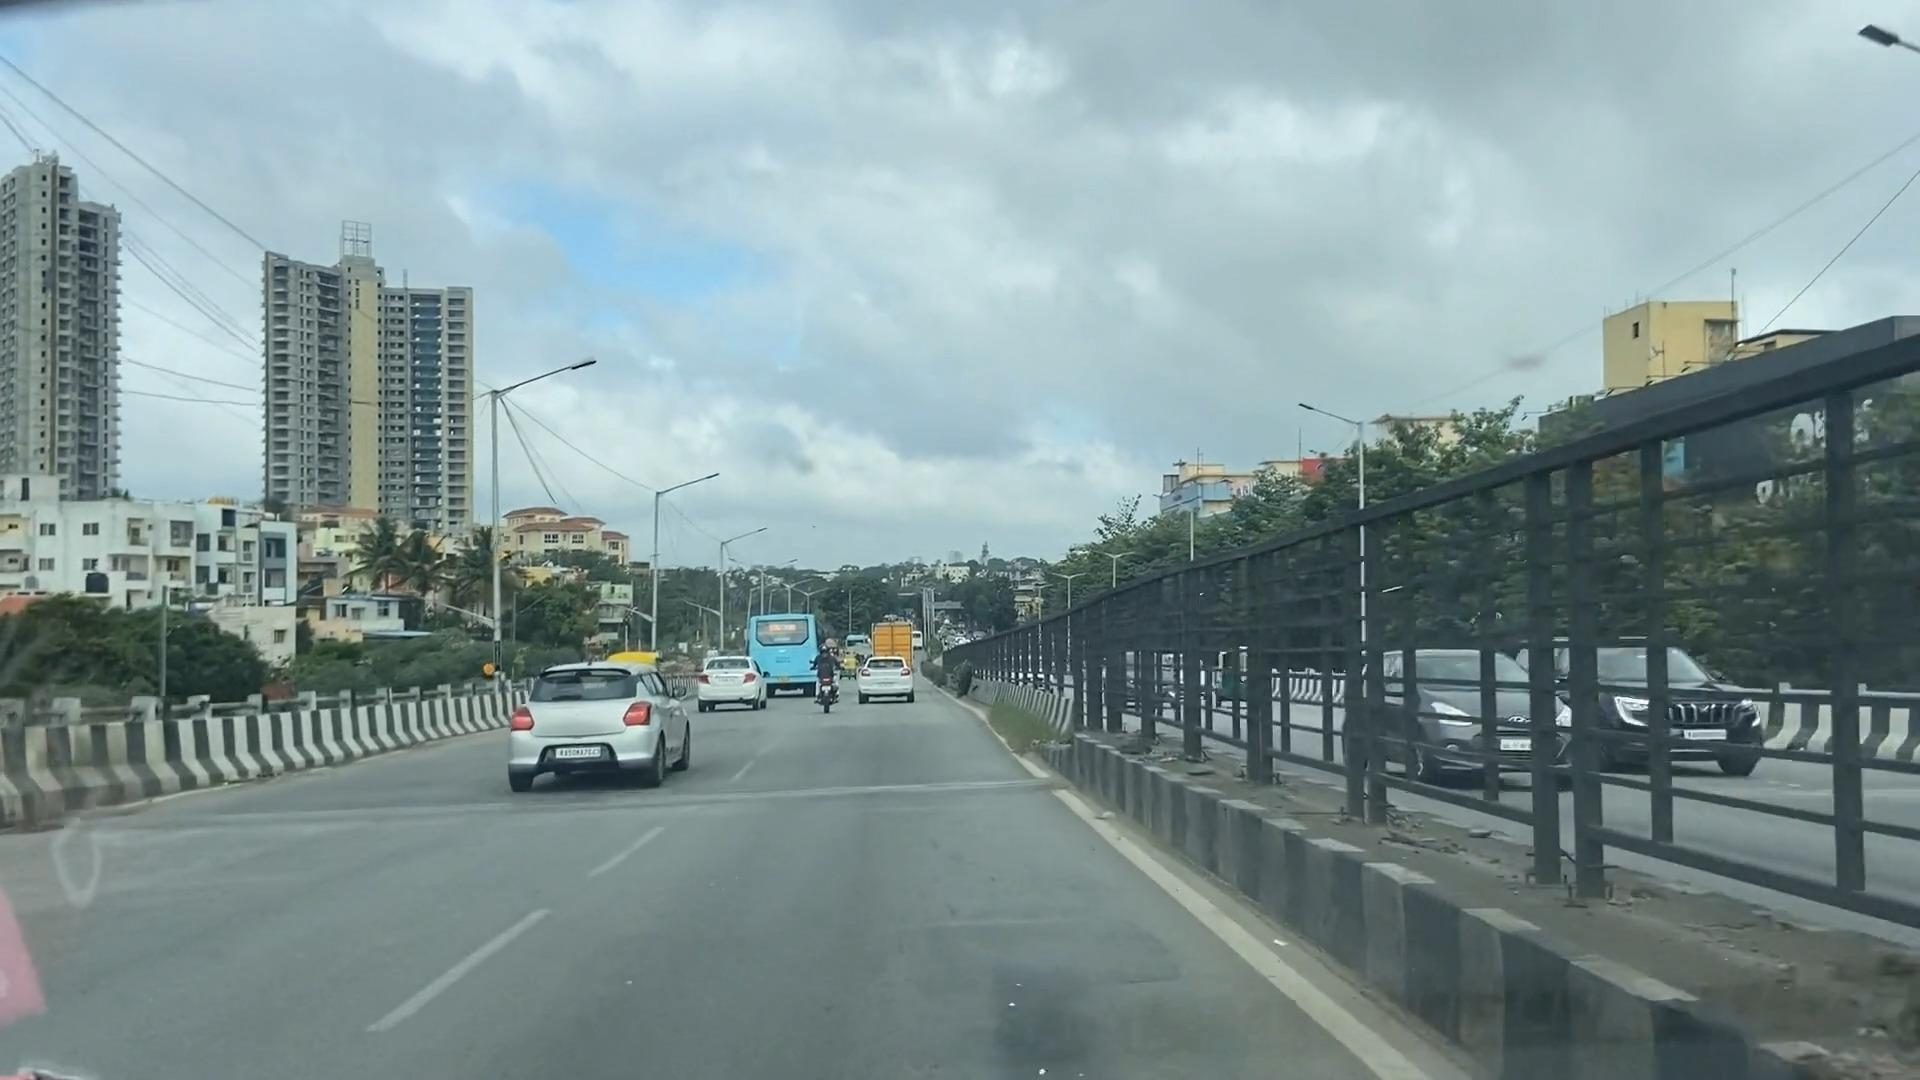HMV: (742, 600, 835, 729)
LMV: (504, 637, 687, 812), (799, 622, 862, 746), (843, 642, 927, 724), (692, 649, 779, 727)
